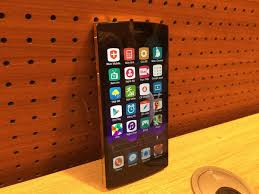bphone: (92, 17, 171, 190)
